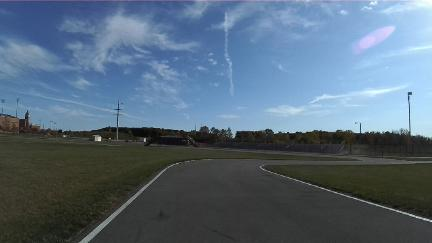Grass: (0, 139, 346, 242), (265, 164, 431, 217), (384, 157, 431, 161)
Lane: (91, 158, 431, 242)
